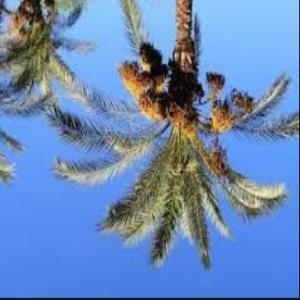palm tree: (46, 0, 299, 270)
